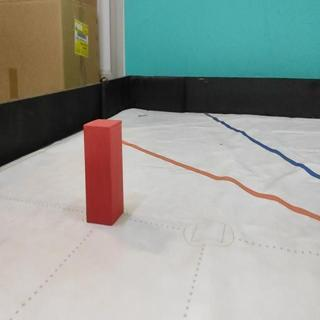redbox: (83, 119, 125, 227)
